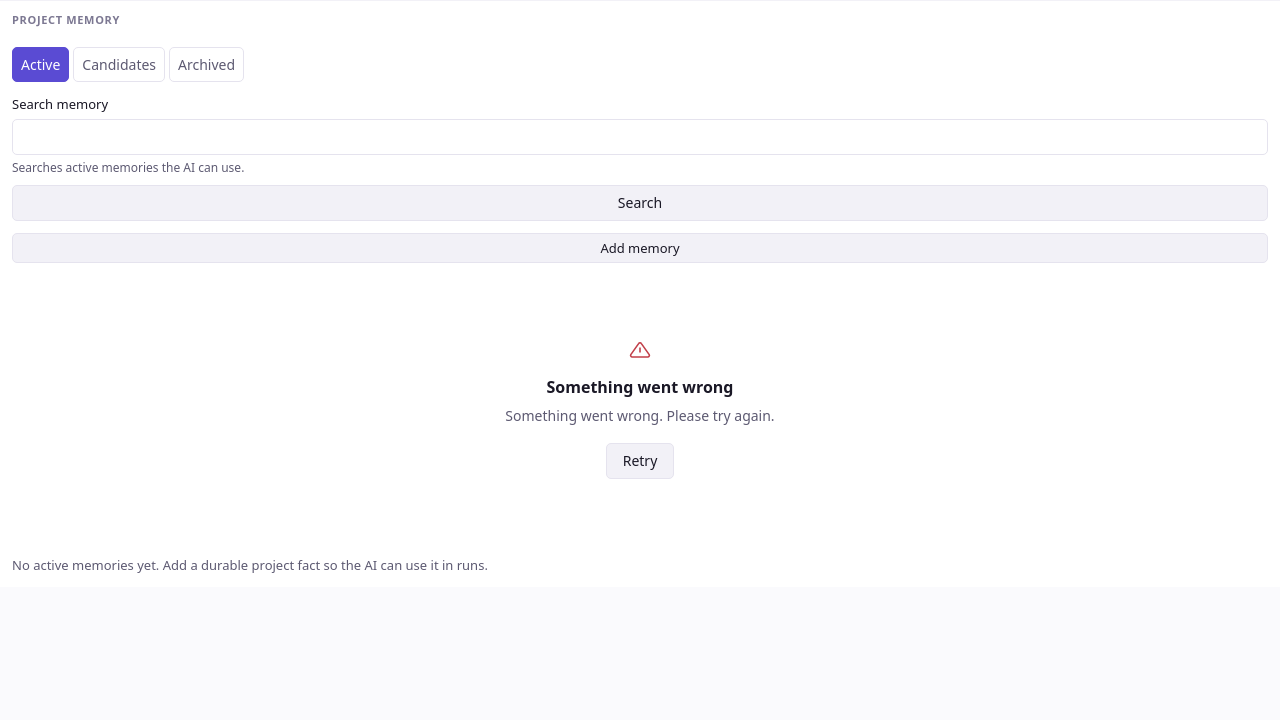
Test: MemoryPanel › surfaces load failures with a retry, never fabricated memory
Click the button "Retry": x=640, y=460 [606,442,674,478]
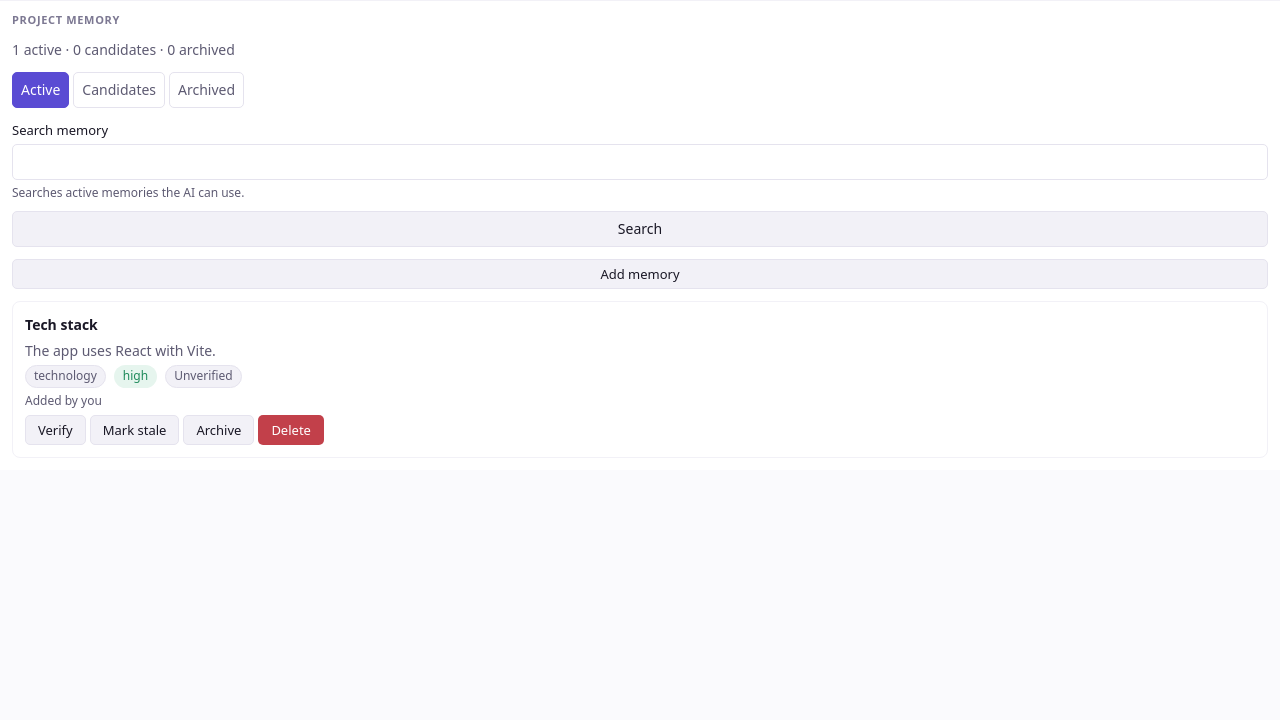
Now the text "Tech stack" is shown, box [25,315,98,334]
